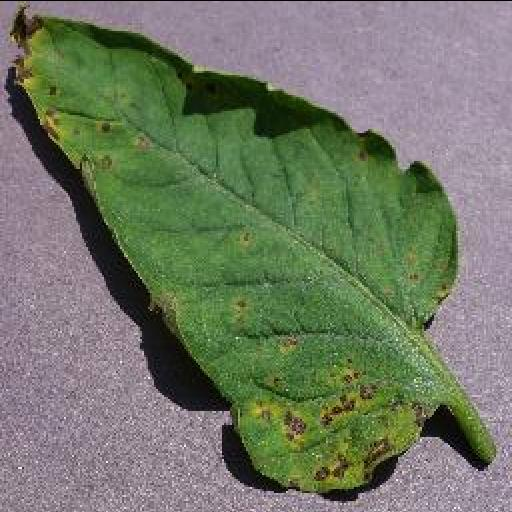disease_tomato: (9, 10, 459, 488)
